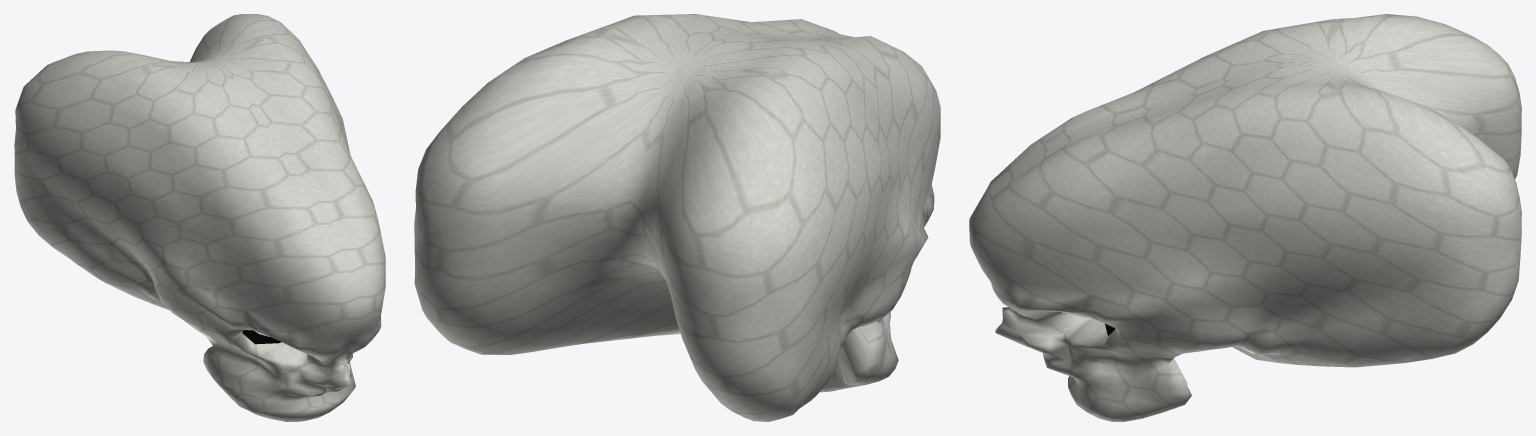
The model's file is 02head.obj.
3 renders of one model, left to right at view 1: azimuth 30°, elevation 25°; view 2: azimuth 150°, elevation 25°; view 3: azimuth 270°, elevation 25°, orthographic. The views are drawn at different scales.
Parts seen in each view (by area): view 1: Group4992; view 2: Group4992; view 3: Group4992.
Boxes of the visible parts, x1,y1,x2,y2 form: Group4992: (14,14,385,421); Group4992: (414,14,940,421); Group4992: (969,14,1521,421).
Bounding box in the file's own units: 2.36 × 2.48 × 3.48.
